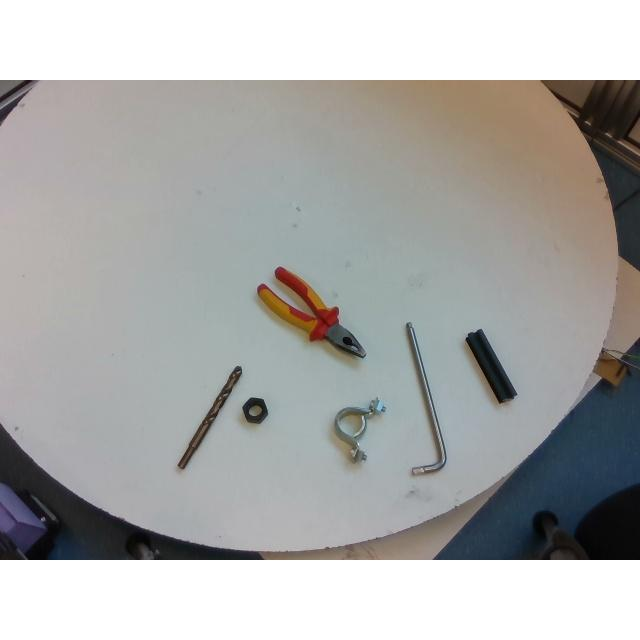AllenKey: (406, 322, 446, 474)
Drill: (177, 366, 241, 468)
F20_20_B: (466, 330, 516, 402)
Housing: (334, 397, 386, 461)
M20: (242, 397, 268, 423)
